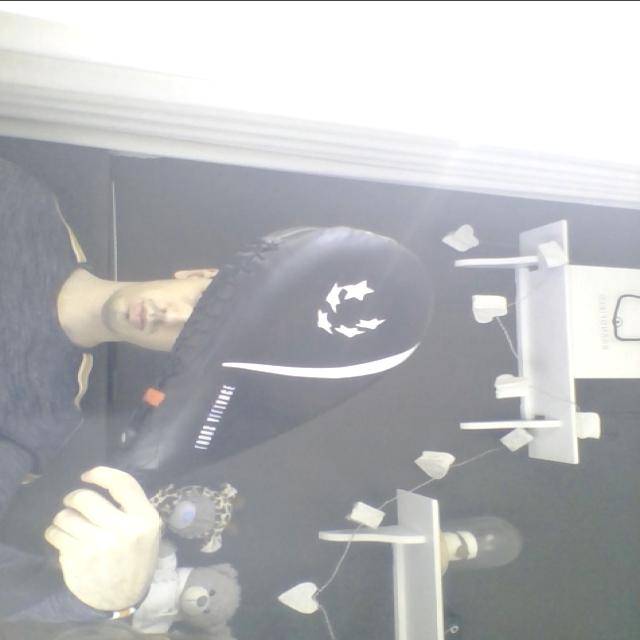paddle: (117, 223, 440, 494)
